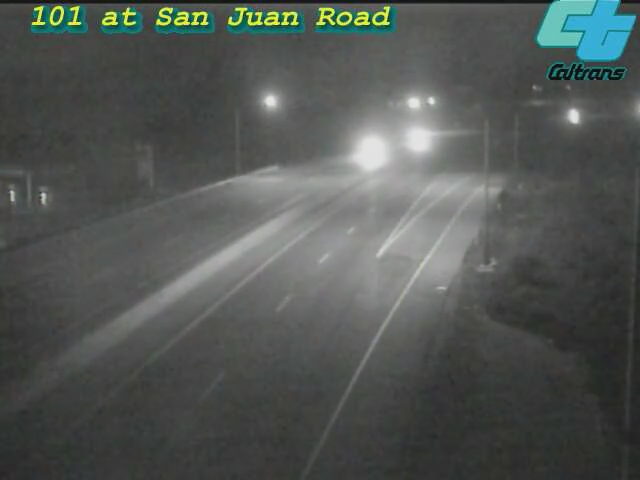vehicle: (337, 126, 387, 176), (389, 115, 439, 165), (550, 90, 600, 140)
